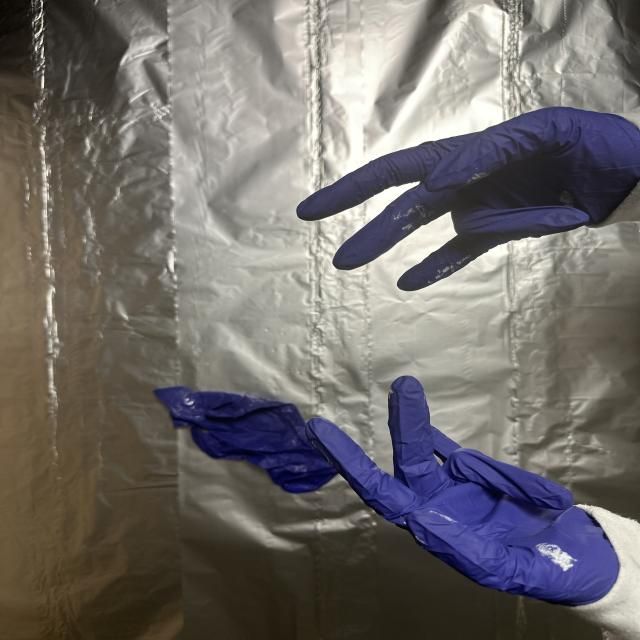gloves_contaminated: (306, 376, 620, 606), (297, 108, 640, 291)
